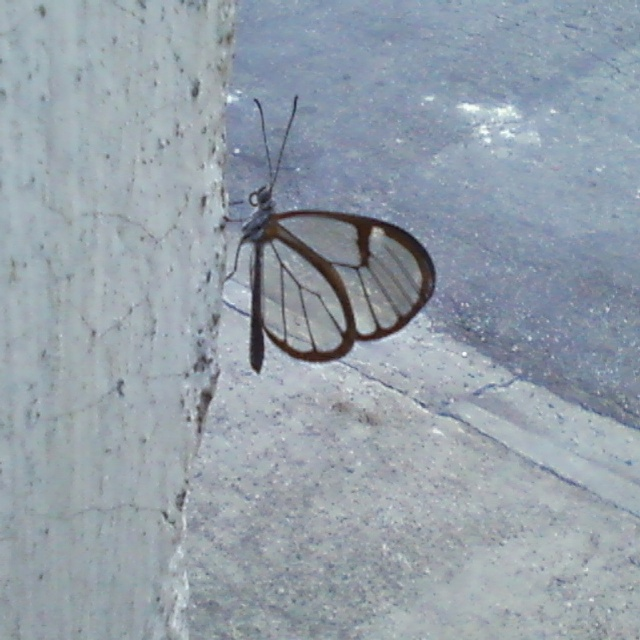Butterfly: (222, 99, 436, 381)
